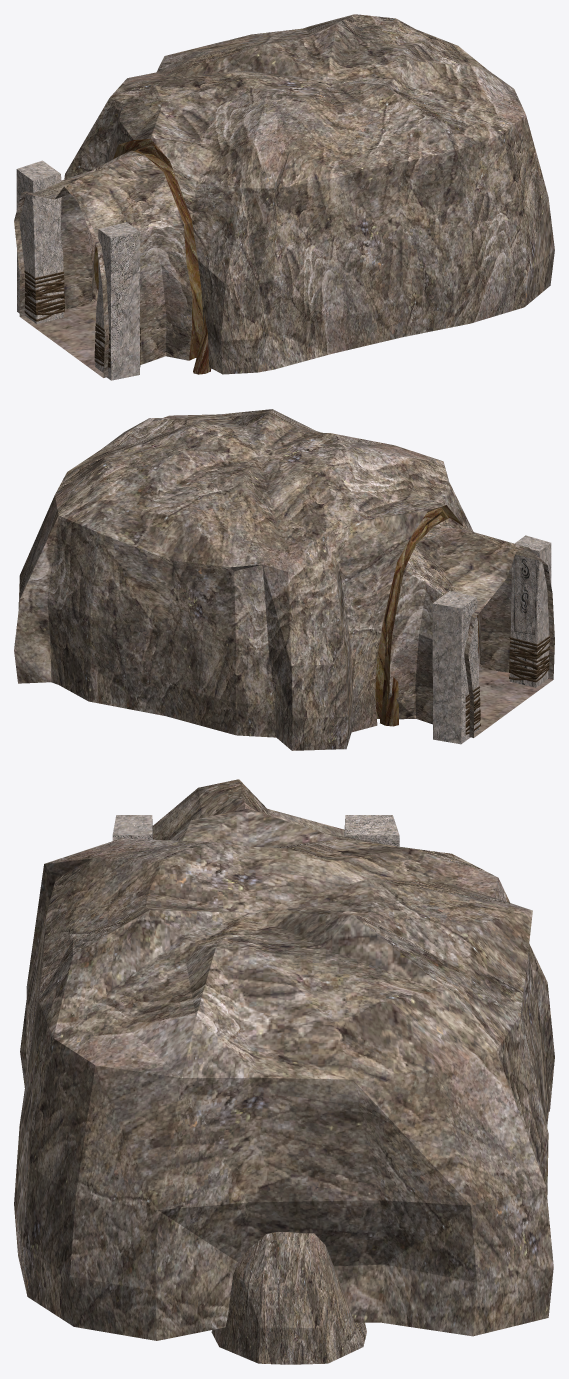
Rendered from thm_dath_mtn_clan_stronghold_r9_craft2_mesh_r9.fbx.
3 renders of one model, top to bottom at view 1: azimuth 30°, elevation 25°; view 2: azimuth 150°, elevation 25°; view 3: azimuth 270°, elevation 25°, orthographic. The views are drawn at different scales.
Parts seen in each view (by area): view 1: mesh_node; view 2: mesh_node; view 3: mesh_node.
Part boxes in pixels (bbox=[...]): mesh_node: bbox=[14, 14, 554, 380]; mesh_node: bbox=[14, 409, 554, 750]; mesh_node: bbox=[14, 779, 554, 1364].
Size of the model in its own units: 10.23 by 5.1 by 7.2.
